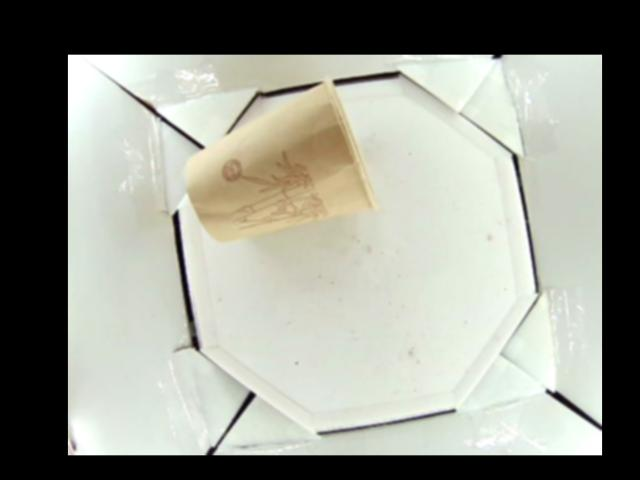Cup: (183, 75, 374, 242)
